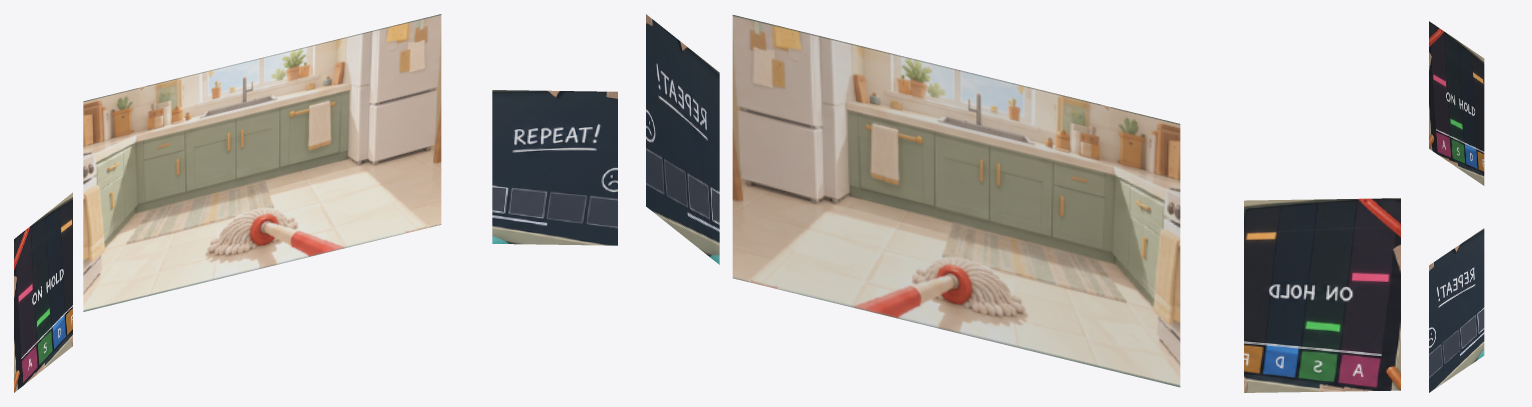
File: preview_screens.glb
The picture shows the model from 3 angles, left to right: view 1: azimuth 30°, elevation 25°; view 2: azimuth 150°, elevation 25°; view 3: azimuth 270°, elevation 25°; orthographic projection. The views are drawn at different scales.
Visible parts, largest first — view 1: FrontScreenPreview, RightPanelPreview, LeftPanelPreview; view 2: FrontScreenPreview, LeftPanelPreview, RightPanelPreview; view 3: RightPanelPreview, LeftPanelPreview.
Boxes of the visible parts, left/top/right/bottom form: FrontScreenPreview: left=83, top=14, right=441, bottom=311; RightPanelPreview: left=492, top=90, right=617, bottom=245; LeftPanelPreview: left=14, top=192, right=72, bottom=392; FrontScreenPreview: left=732, top=15, right=1180, bottom=387; LeftPanelPreview: left=1244, top=198, right=1400, bottom=392; RightPanelPreview: left=646, top=14, right=719, bottom=264; RightPanelPreview: left=1429, top=228, right=1484, bottom=392; LeftPanelPreview: left=1429, top=21, right=1484, bottom=185.
Size of the model in its own units: 1.89 by 0.665 by 0.2901.
1 material, 1 textured.
